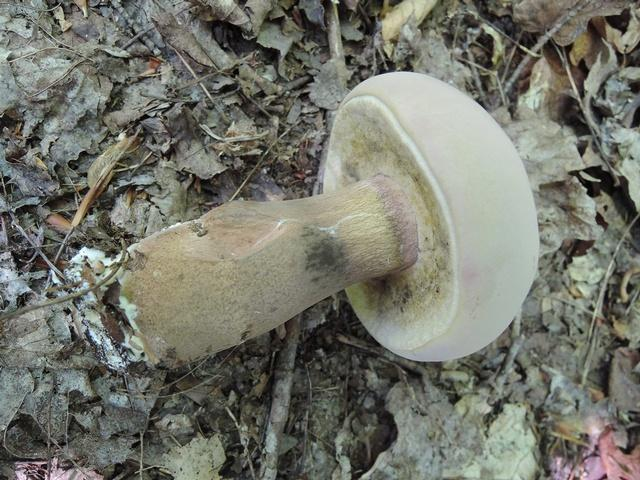Non-edible Mushroom: (112, 69, 541, 370)
